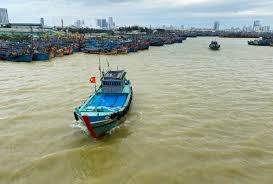tau_dansu: (78, 60, 133, 139), (5, 45, 33, 62), (209, 36, 220, 53)
